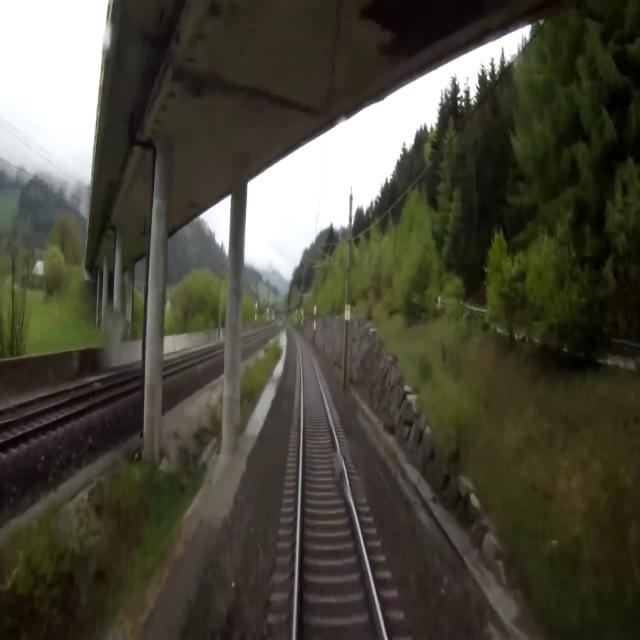rail-track: (288, 324, 382, 639)
